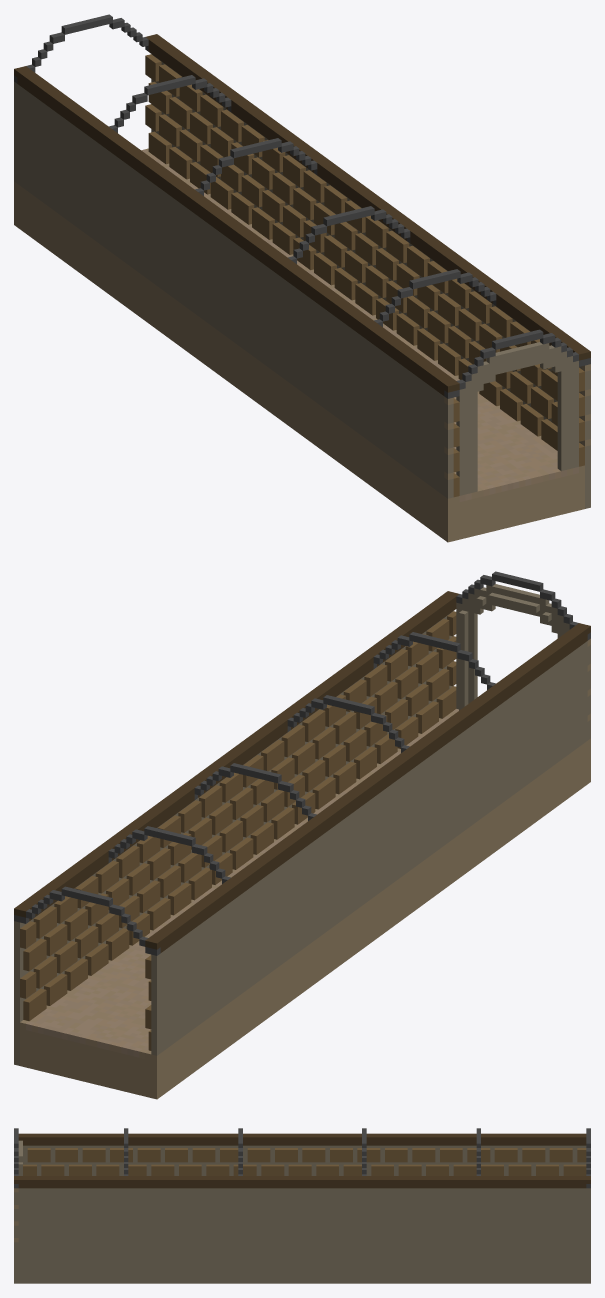
The model's file is Small Room-0.obj.
The picture shows the model from 3 angles, top to bottom: view 1: azimuth 30°, elevation 25°; view 2: azimuth 150°, elevation 25°; view 3: azimuth 270°, elevation 25°; orthographic projection. The views are drawn at different scales.
Size of the model in its own units: 2.4 by 3 by 12.6.
